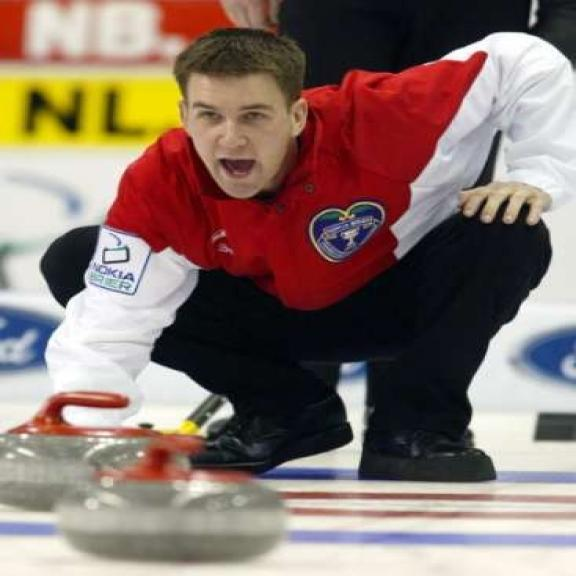face: (176, 75, 311, 205)
